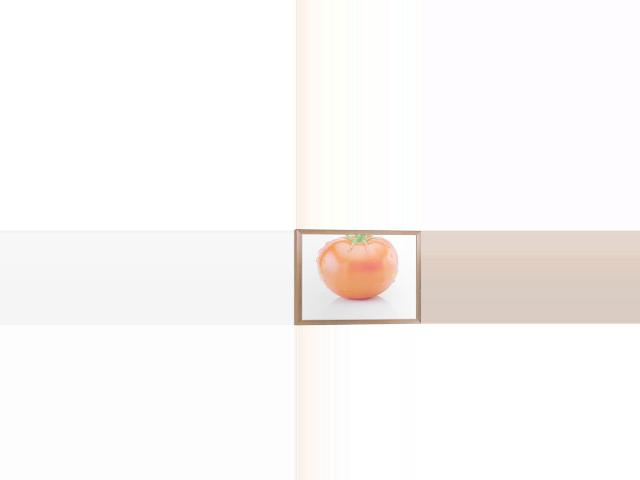tomato: (316, 234, 397, 300)
